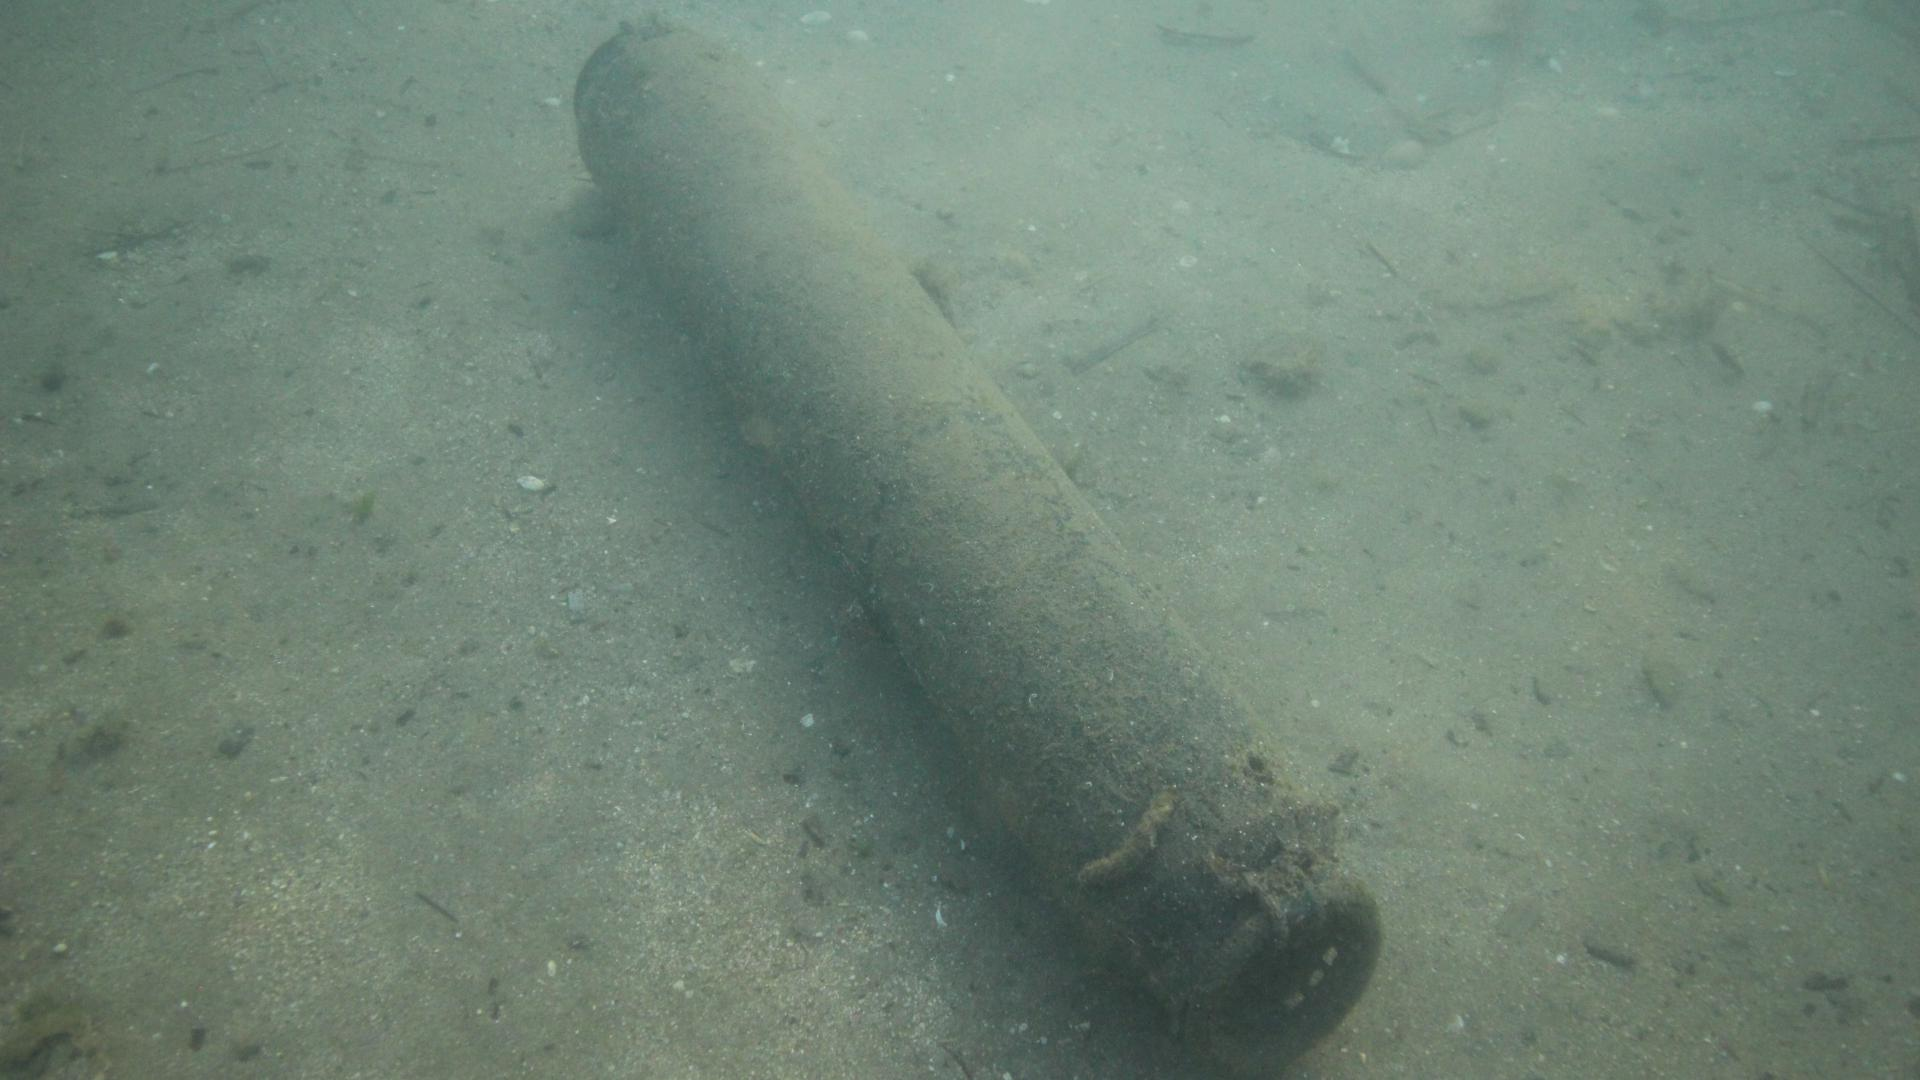eel fish trap: (578, 16, 1379, 1065)
